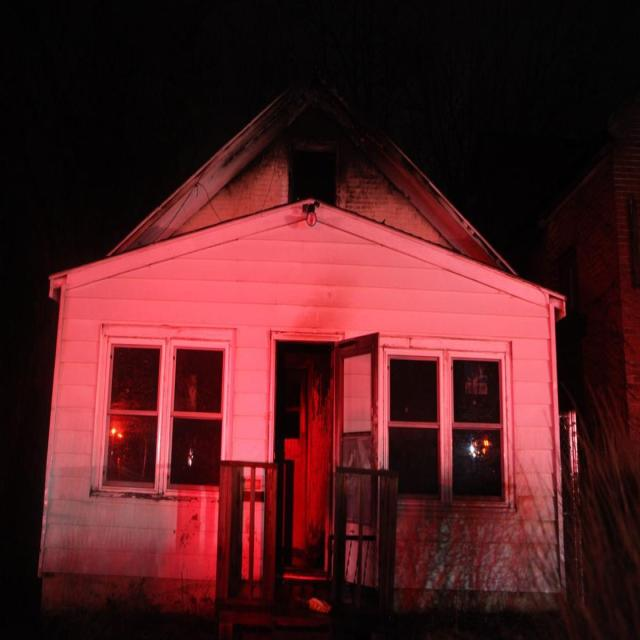other: (105, 413, 130, 458), (464, 430, 498, 458)
